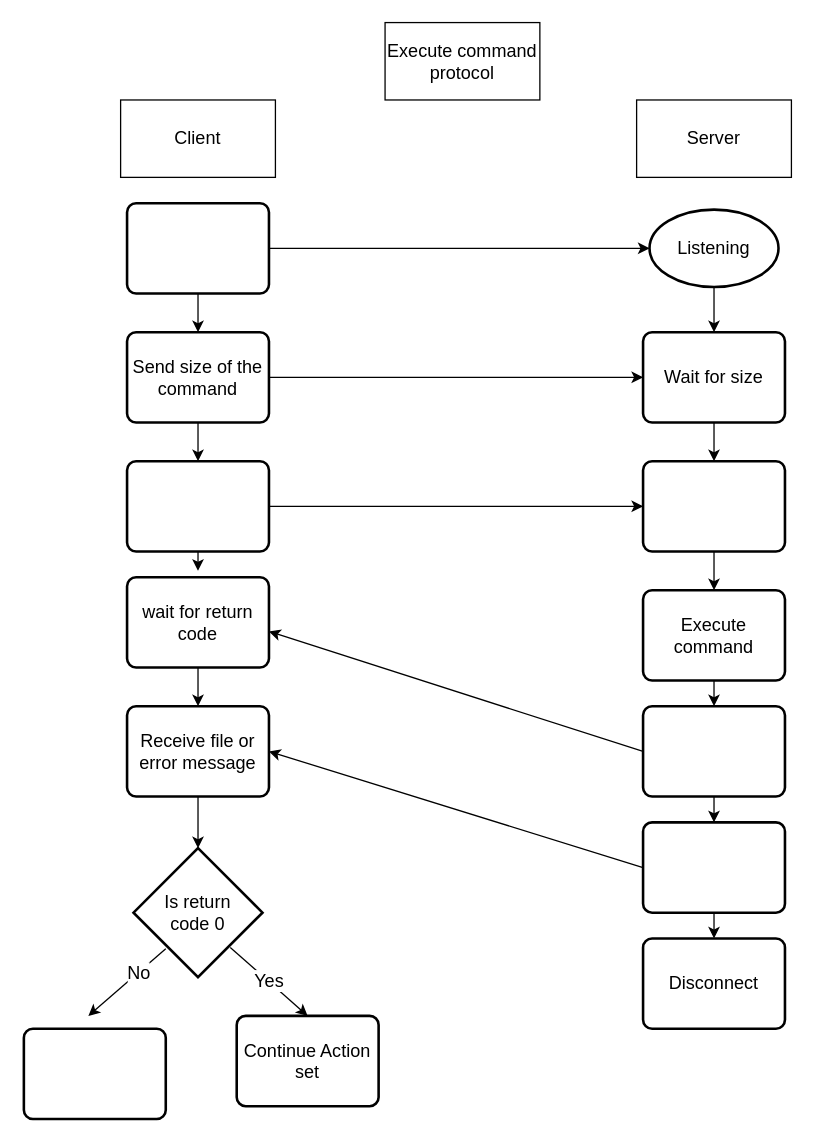
Some shapes in this 814 by 1143 pixel diagram are drawn without their labels. The shapes that lost their labels are listed below. From the top down, each one's centre as x and y in pixels, then its label:
point 197,247: Send CMD_EXECUTE
point 197,505: Send command string
point 713,505: Wait for string
point 713,750: Return code
point 713,866: Return file or error message
point 94,1073: Exit program
